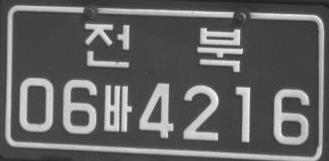0: (18, 76, 54, 132)
1: (228, 86, 261, 144)
2: (182, 84, 218, 141)
4: (138, 81, 173, 138)
6: (273, 88, 309, 146), (63, 78, 98, 134)
바: (103, 84, 132, 132)
전북_D: (84, 22, 243, 73)
